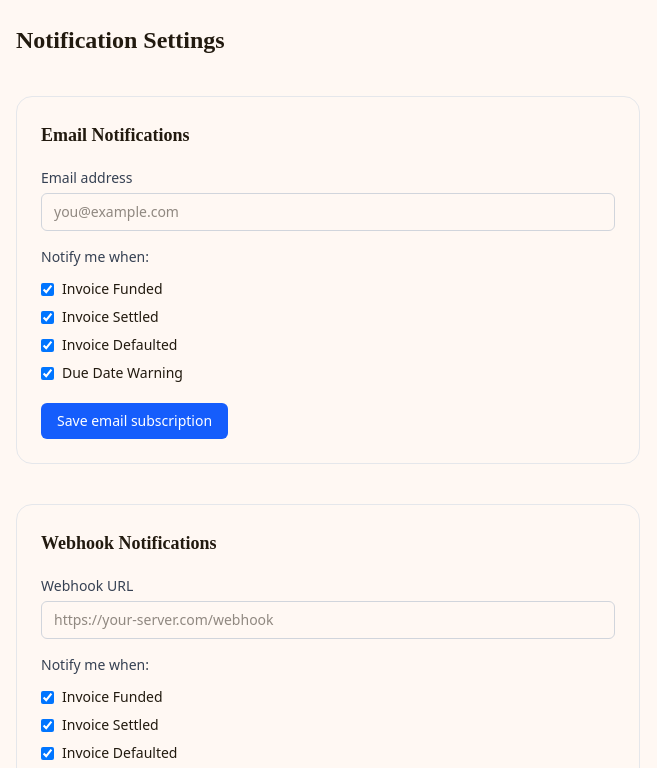
NotificationSettings (#70) › saves email subscription to localStorage
Type "test@example.com" into the field with test id "email-input" at [328, 212], box [41,193,615,231]
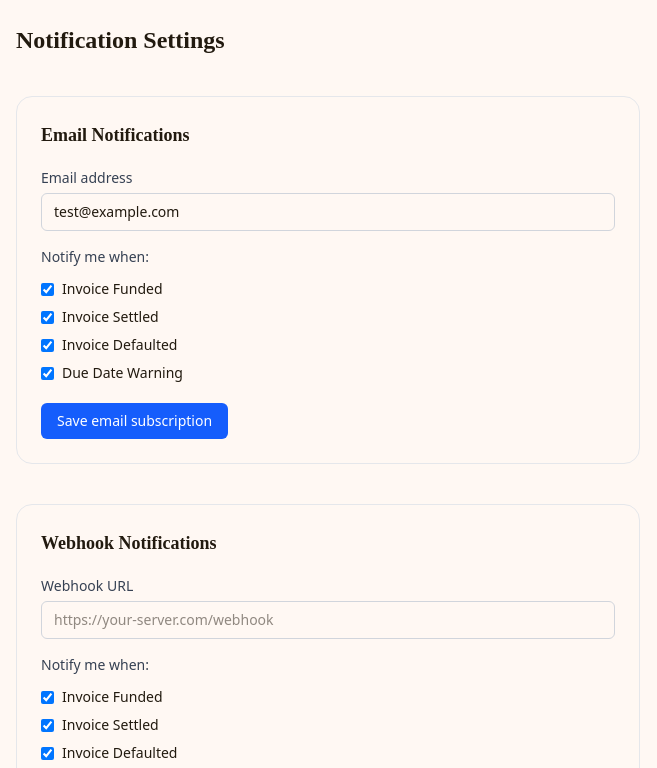
Click the button with test id "save-email-btn" at [135, 421], box [41,403,228,439]
(page scrolled)
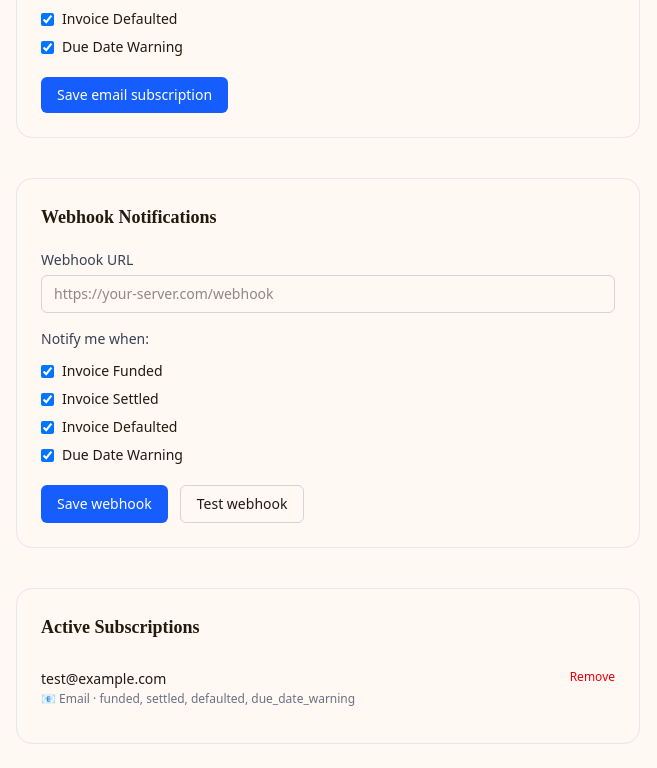
Now the text "test@example.com" is shown, box [41,669,166,688]
